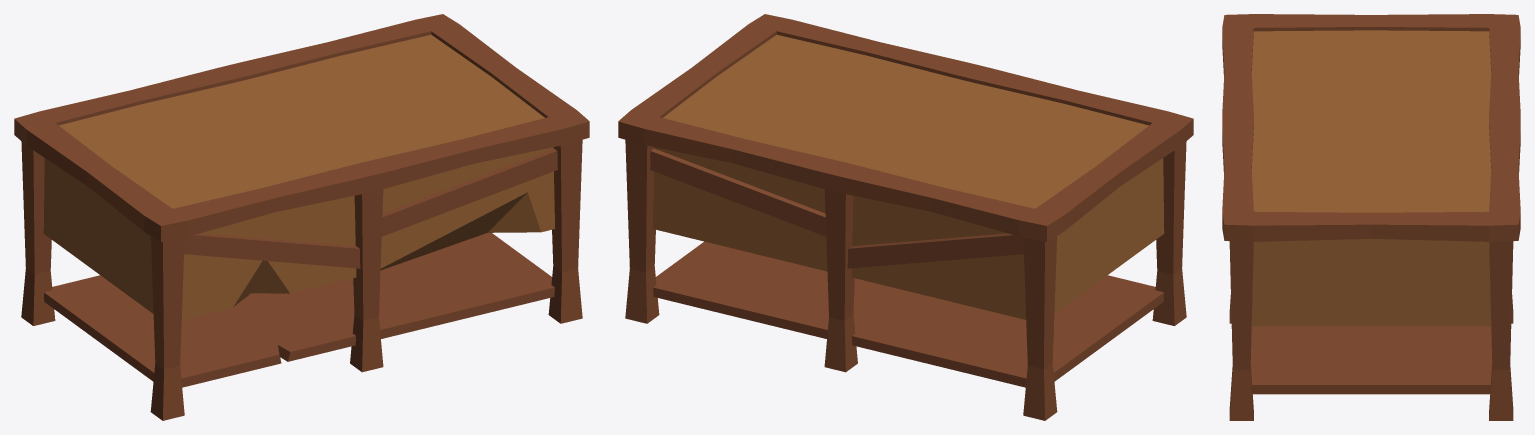
File: LP_PostApoc_WoodenTable.fbx
3 renders of one model, left to right at view 1: azimuth 30°, elevation 25°; view 2: azimuth 150°, elevation 25°; view 3: azimuth 270°, elevation 25°, orthographic.
Visible parts, largest first — view 1: WoodenTable; view 2: WoodenTable; view 3: WoodenTable.
Part boxes in pixels (box(x1,y1,x2,y2)): WoodenTable: box(14, 14, 589, 420); WoodenTable: box(618, 14, 1193, 420); WoodenTable: box(1222, 14, 1520, 420).
Bounding box in the file's own units: 134 × 58.77 × 80.13.
